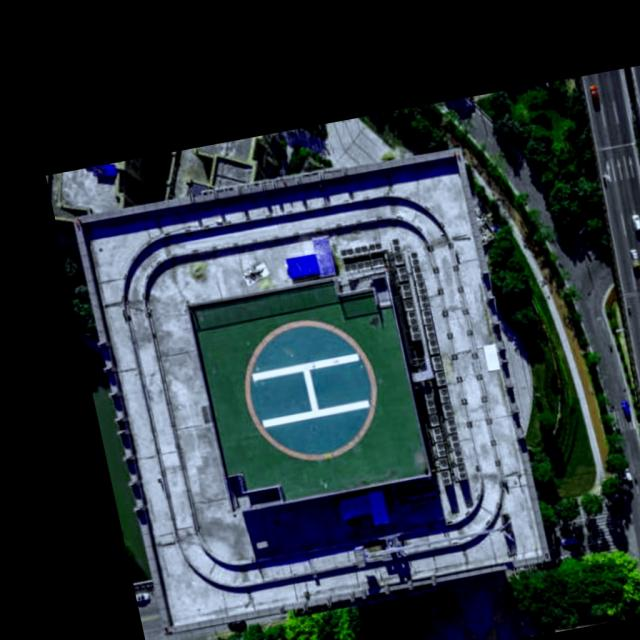helipad: (237, 314, 381, 465)
